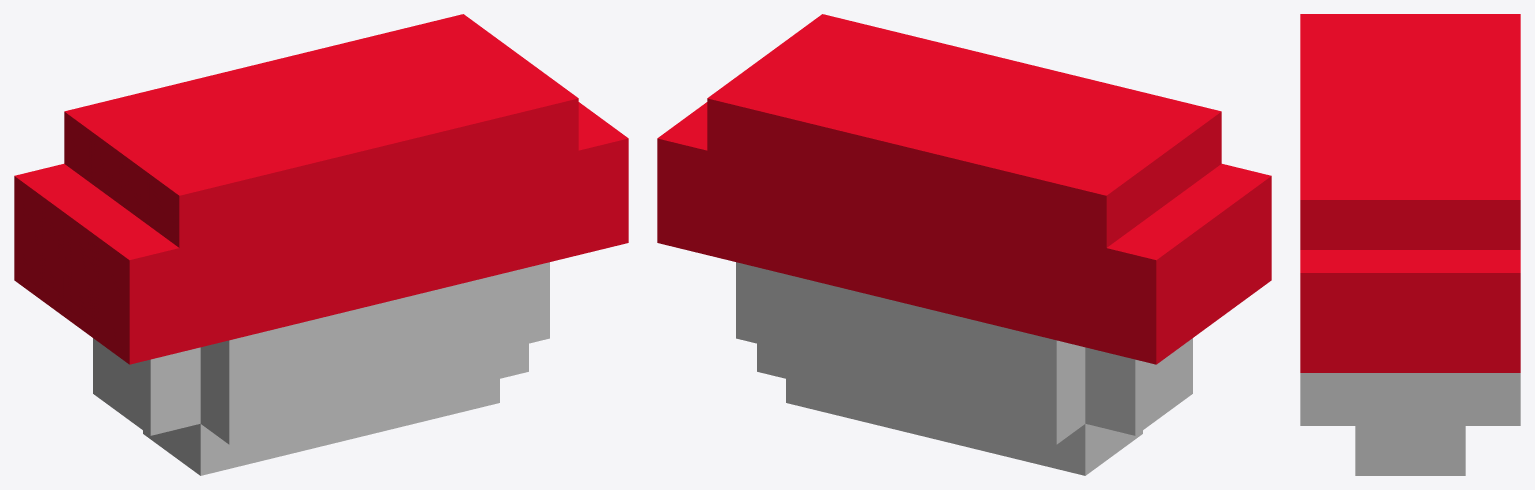
The model's file is sushi.obj.
The picture shows the model from 3 angles, left to right: view 1: azimuth 30°, elevation 25°; view 2: azimuth 150°, elevation 25°; view 3: azimuth 270°, elevation 25°; orthographic projection. The views are drawn at different scales.
Parts seen in each view (by area): view 1: Cube.019_Cube.2379; view 2: Cube.019_Cube.2379; view 3: Cube.019_Cube.2379.
Boxes of the visible parts, x1,y1,x2,y2 form: Cube.019_Cube.2379: (14,14,628,475); Cube.019_Cube.2379: (657,14,1271,475); Cube.019_Cube.2379: (1300,14,1520,475).
Size of the model in its own units: 0.625 by 0.375 by 0.25.
